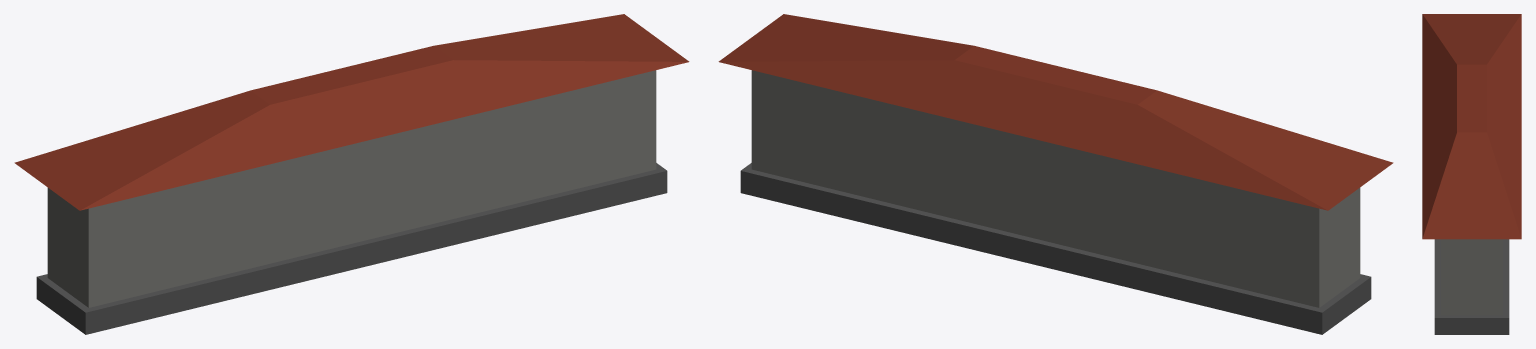
Rendered from SM_GZ_wall_ember.fbx.
3 renders of one model, left to right at view 1: azimuth 30°, elevation 25°; view 2: azimuth 150°, elevation 25°; view 3: azimuth 270°, elevation 25°, orthographic. The views are drawn at different scales.
Parts seen in each view (by area): view 1: SM_GZ_wall_ember; view 2: SM_GZ_wall_ember; view 3: SM_GZ_wall_ember.
Boxes of the visible parts, x1,y1,x2,y2 form: SM_GZ_wall_ember: (14, 14, 689, 334); SM_GZ_wall_ember: (718, 14, 1393, 334); SM_GZ_wall_ember: (1422, 14, 1521, 334).
Bounding box in the file's own units: 860 × 230 × 160.
